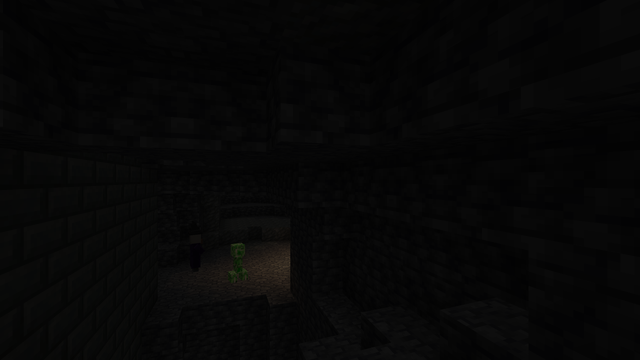creepers: (230, 241, 244, 282)
sorcieres: (187, 230, 201, 272)
